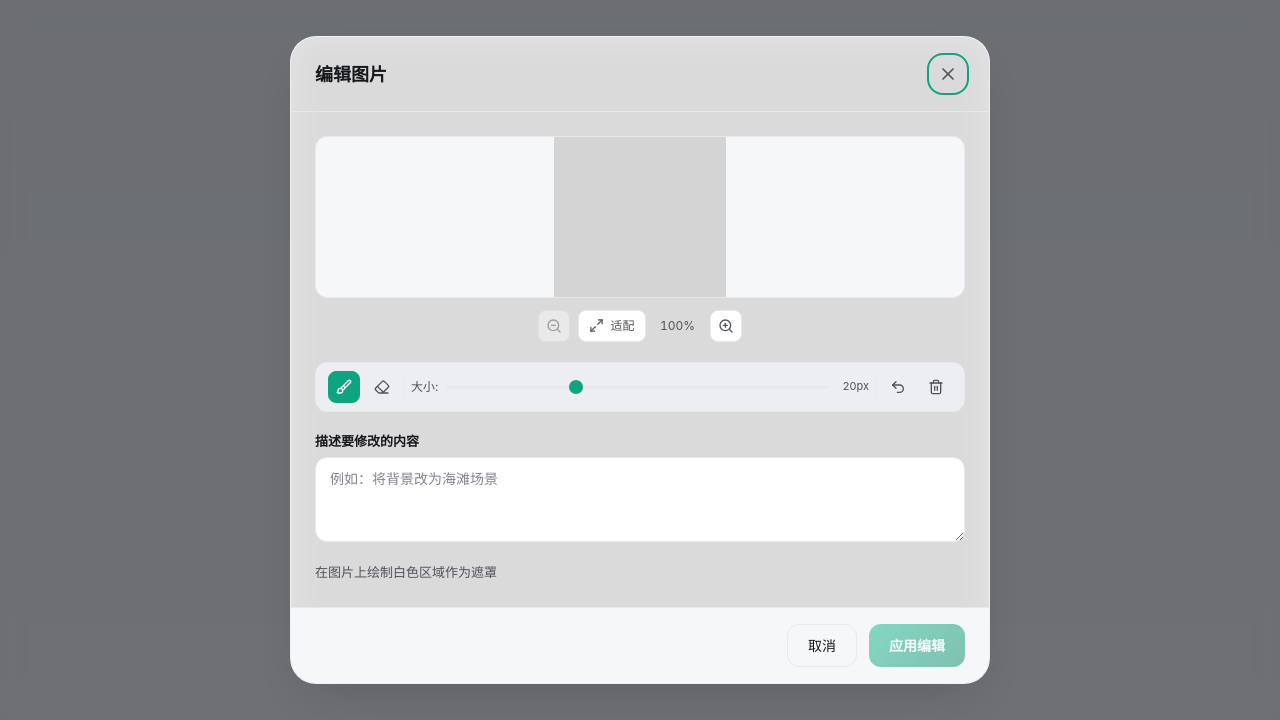
Test: ImageEditDialog image sizing › zooms the stage without changing the canvas resolution
Click the button titled "放大": (726, 326) [710,310,742,342]
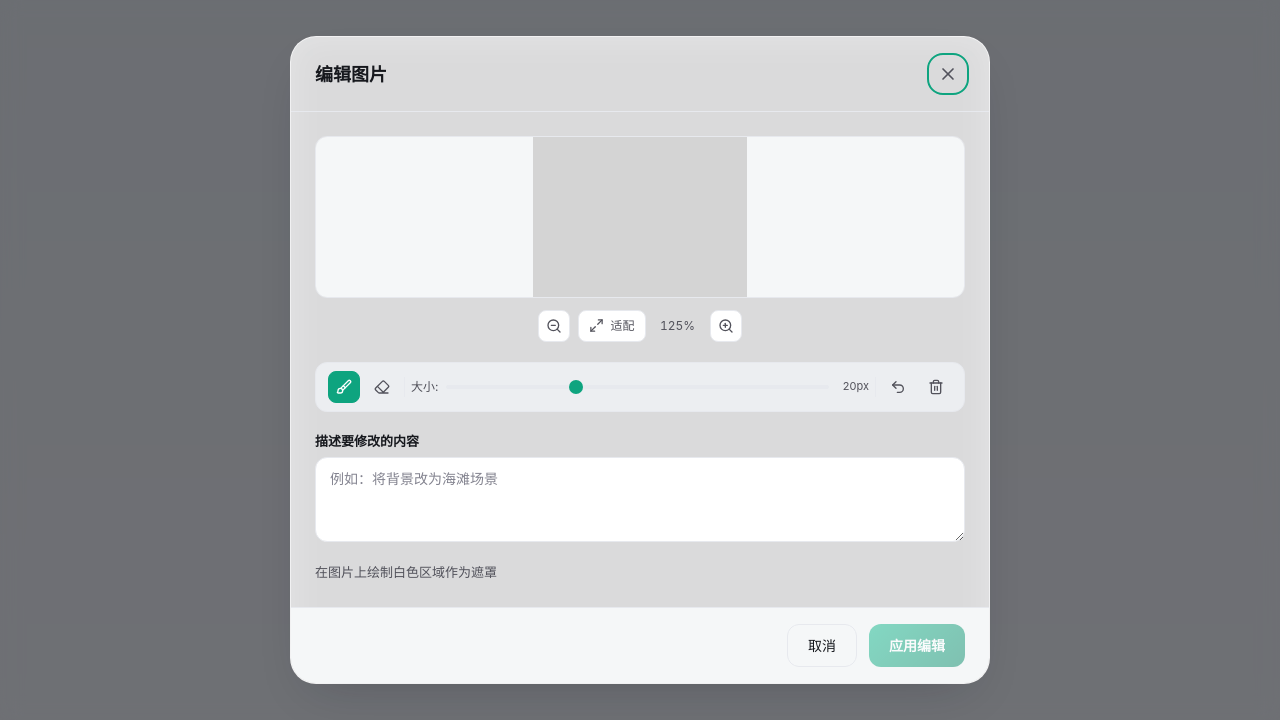
Now the text with class "zoom-value" reads "125%", box [660,318,695,333]
